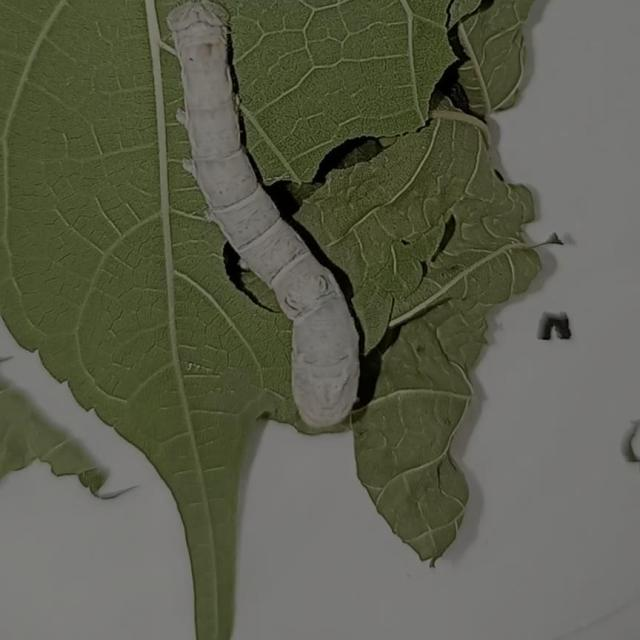Healthy: (150, 0, 426, 428)
